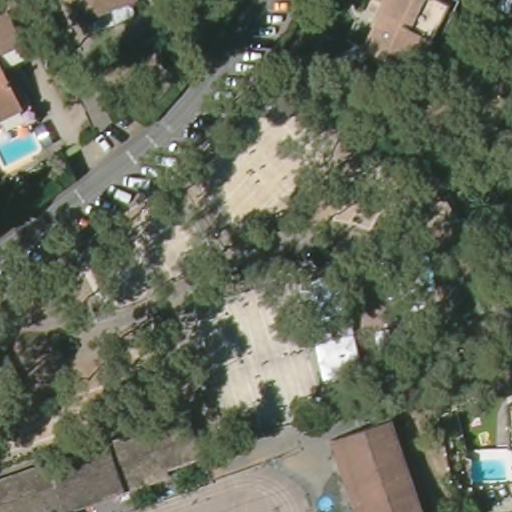pool: (1, 132, 48, 172), (466, 451, 512, 486), (313, 489, 342, 512)
